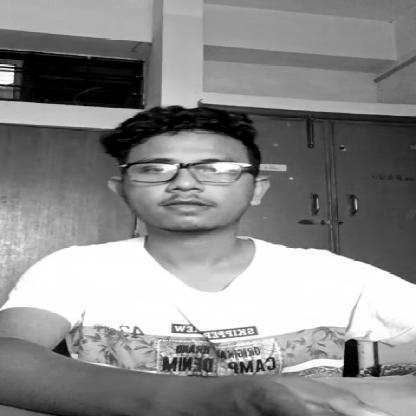Normal: (108, 99, 281, 231)
